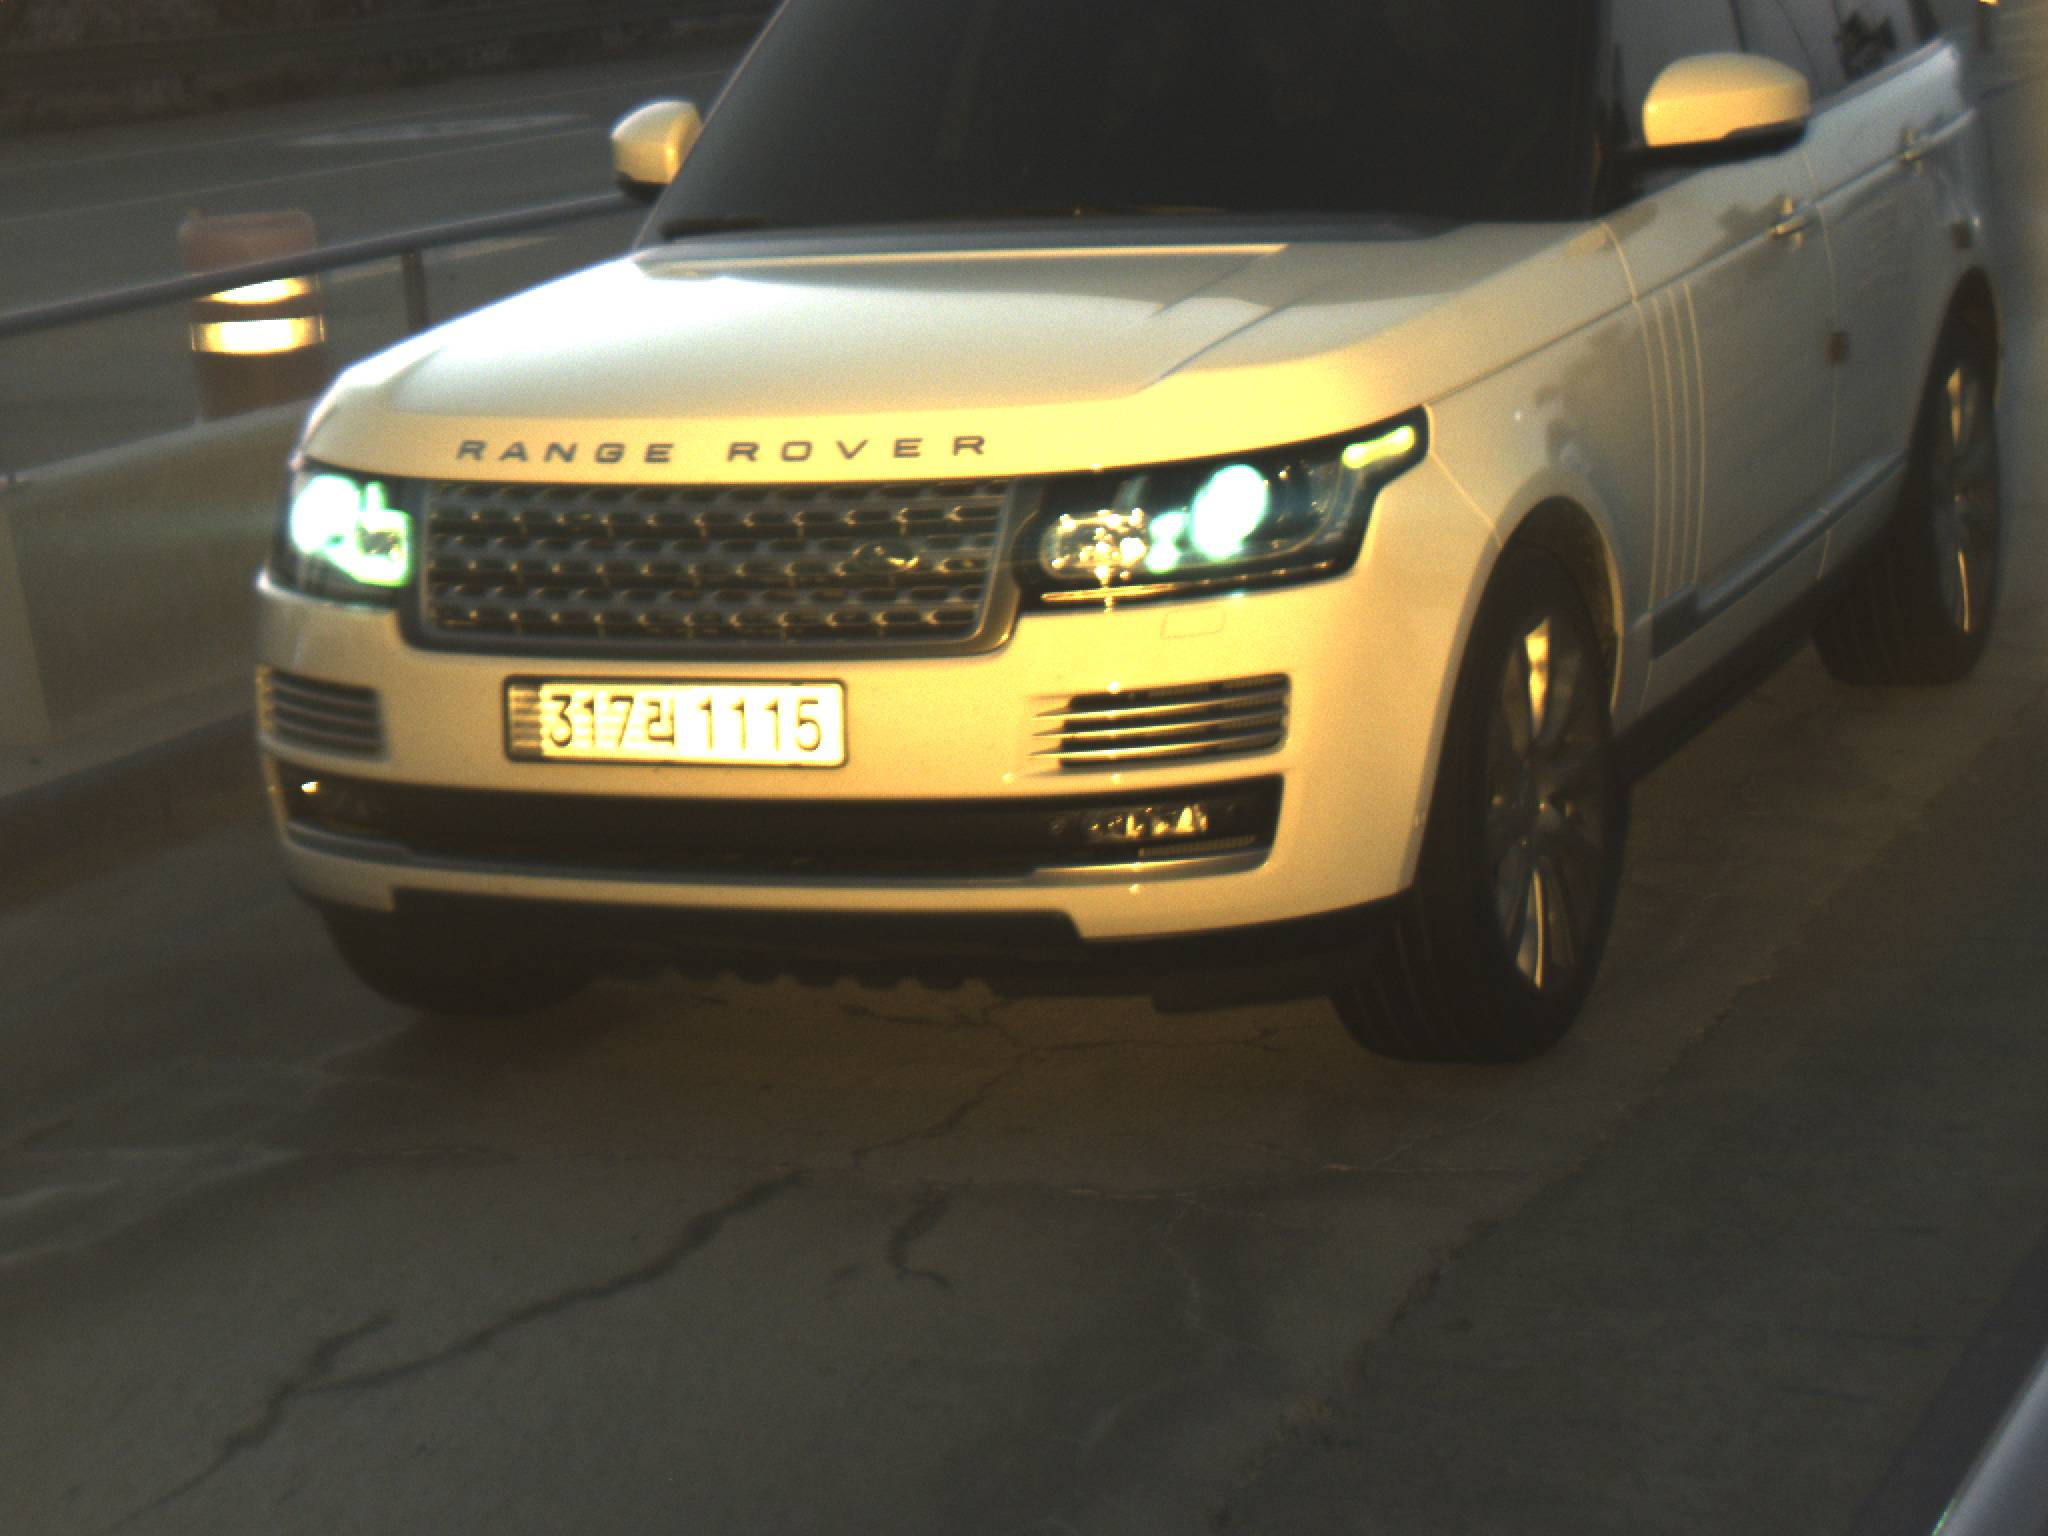car: (246, 1, 2006, 1070)
plate: (497, 672, 857, 774)
